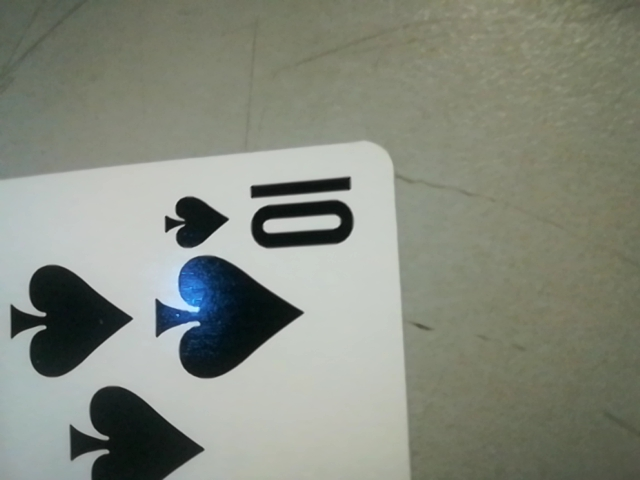ht 10: (162, 168, 367, 261)
